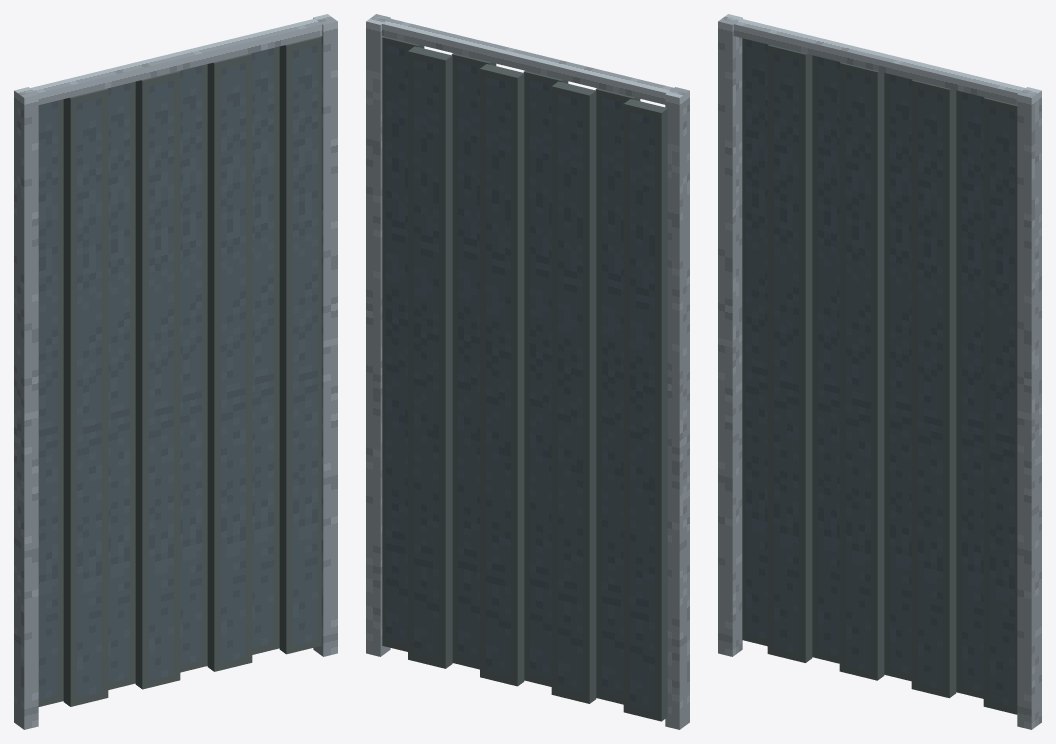
File: f_large_canvas_wall.glb
3 renders of one model, left to right at view 1: azimuth 30°, elevation 25°; view 2: azimuth 150°, elevation 25°; view 3: azimuth 330°, elevation 25°, orthographic.
Parts seen in each view (by area): view 1: block_fabric-fold-1, block_fabric-fold-5, block_fabric-fold-3, block_fabric-fold-7, block_fabric-fold-2, block_fabric-fold-4, block_fabric-fold-6, block_support--0.473, block_fabric-fold-0, block_support-0.473, block_top-rail; view 2: block_fabric-fold-2, block_fabric-fold-6, block_fabric-fold-0, block_fabric-fold-4, block_fabric-fold-1, block_fabric-fold-3, block_fabric-fold-5, block_fabric-fold-7, block_support--0.473, block_support-0.473, block_top-rail; view 3: block_fabric-fold-3, block_fabric-fold-5, block_fabric-fold-1, block_fabric-fold-7, block_fabric-fold-4, block_fabric-fold-6, block_fabric-fold-2, block_support-0.473, block_support--0.473, block_fabric-fold-0, block_top-rail.
Part boxes in pixels (x1,y1,x2,y2): block_fabric-fold-1: (63,88,108,706); block_fabric-fold-5: (207,53,252,671); block_fabric-fold-3: (135,71,180,689); block_fabric-fold-7: (279,36,321,654); block_fabric-fold-2: (107,81,135,689); block_fabric-fold-4: (179,64,207,672); block_fabric-fold-6: (251,46,279,654); block_support--0.473: (14,87,38,729); block_fabric-fold-0: (38,99,63,706); block_support-0.473: (313,14,337,656); block_top-rail: (20,17,332,104); block_fabric-fold-2: (551,81,596,703); block_fabric-fold-6: (408,46,452,668); block_fabric-fold-0: (623,99,667,721); block_fabric-fold-4: (480,64,524,686); block_fabric-fold-1: (595,88,640,704); block_fabric-fold-3: (523,70,568,686); block_fabric-fold-5: (451,53,496,669); block_fabric-fold-7: (382,36,424,651); block_support--0.473: (665,87,689,729); block_support-0.473: (366,14,390,656); block_top-rail: (372,16,684,104); block_fabric-fold-3: (839,62,884,680); block_fabric-fold-5: (911,80,956,698); block_fabric-fold-1: (767,44,812,662); block_fabric-fold-7: (983,97,1017,714); block_fabric-fold-4: (884,73,912,681); block_fabric-fold-6: (956,90,984,698); block_fabric-fold-2: (812,55,840,663); block_support-0.473: (1017,87,1041,729); block_support--0.473: (718,14,742,656); block_fabric-fold-0: (742,38,768,646); block_top-rail: (723,16,1035,104).
Size of the model in its own units: 0.992 by 1.91 by 0.0895.
1 material, 1 textured.
